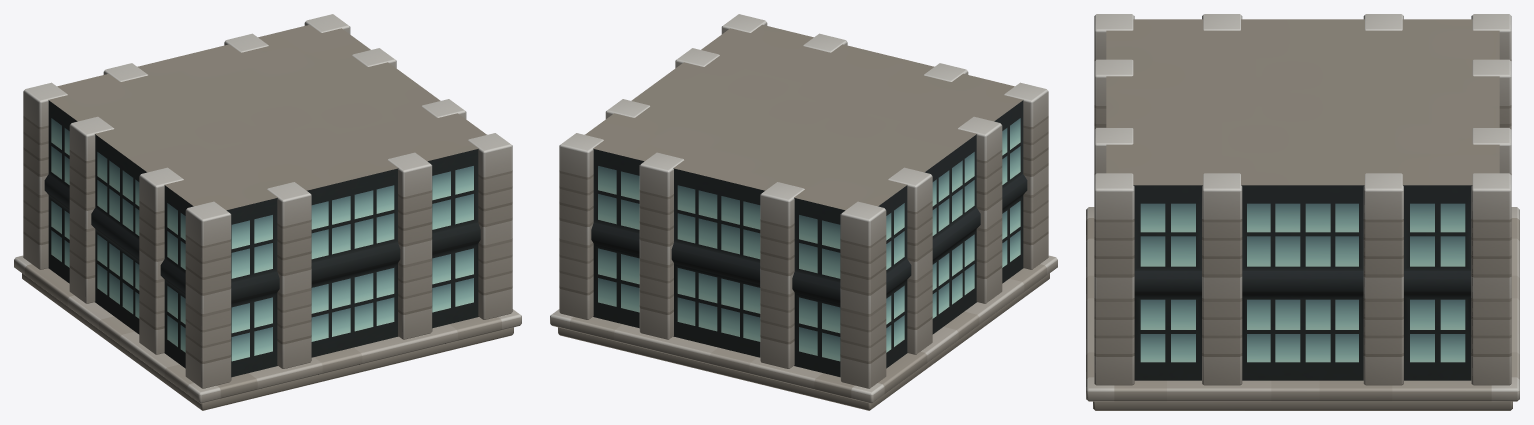
The model's file is office_building_type1_double_floor_cream.fbx.
The picture shows the model from 3 angles, left to right: view 1: azimuth 30°, elevation 25°; view 2: azimuth 150°, elevation 25°; view 3: azimuth 270°, elevation 25°; orthographic projection. The views are drawn at different scales.
Visible parts, largest first — view 1: office_building_type1_double_floor_cream; view 2: office_building_type1_double_floor_cream; view 3: office_building_type1_double_floor_cream.
Boxes of the visible parts, bbox=[...] form: office_building_type1_double_floor_cream: bbox=[14, 14, 521, 410]; office_building_type1_double_floor_cream: bbox=[550, 14, 1057, 410]; office_building_type1_double_floor_cream: bbox=[1086, 14, 1519, 410].
Bounding box in the file's own units: 1610 × 909 × 1610.
